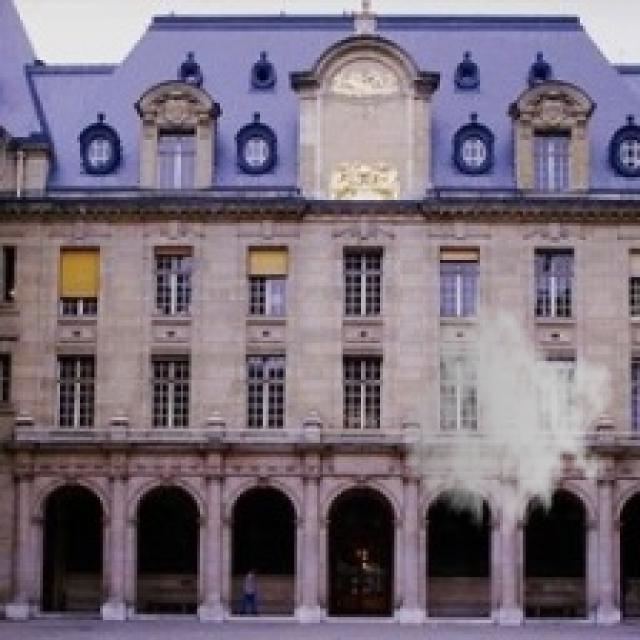smoke: (403, 294, 614, 557)
